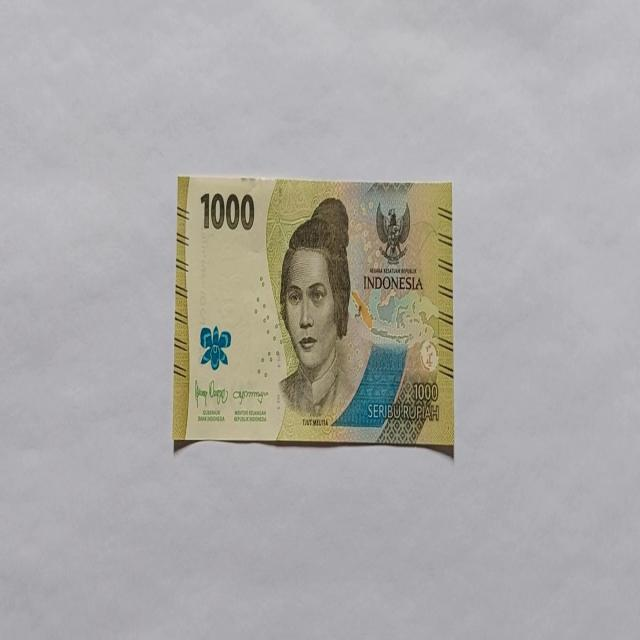seribu rupiah kertas: (172, 174, 454, 454)
